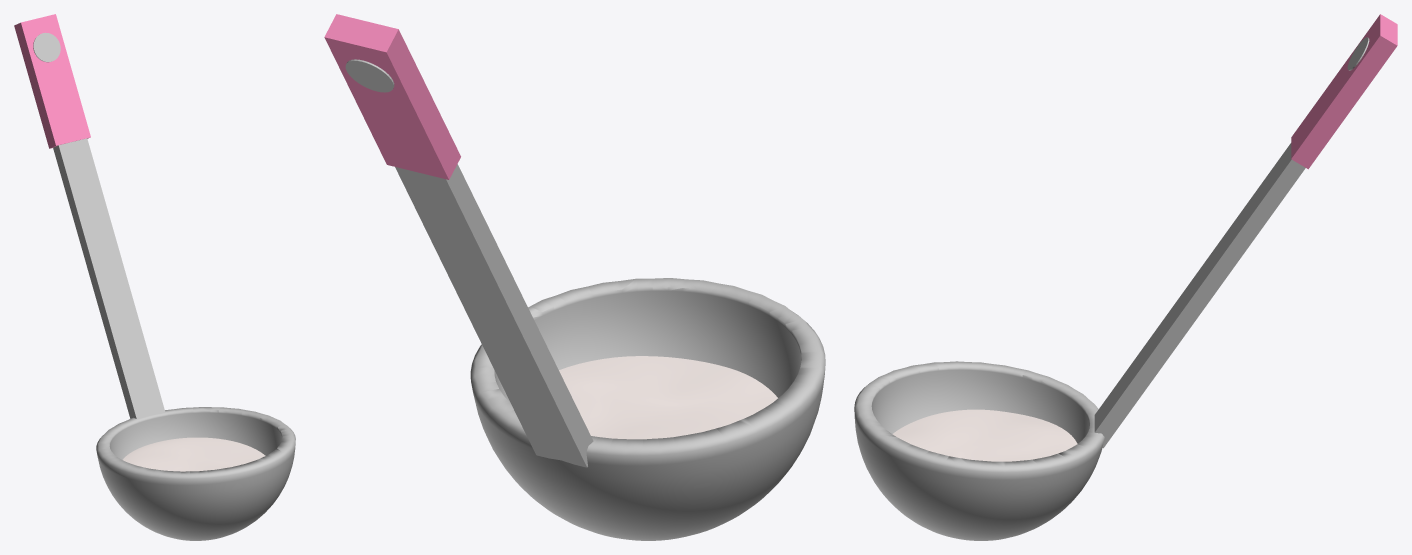
File: milkladle1.fbx
3 views of the same model, side by side, from view 1: azimuth 30°, elevation 25°; view 2: azimuth 150°, elevation 25°; view 3: azimuth 270°, elevation 25° (orthographic). The views are drawn at different scales.
Parts seen in each view (by area): view 1: Sphere.078, Cube.029, Cube.030, Sphere.079, Cylinder.030; view 2: Sphere.078, Cube.029, Sphere.079, Cube.030, Cylinder.030; view 3: Sphere.078, Cube.029, Sphere.079, Cube.030.
Part boxes in pixels (x1,y1,x2,y2): Sphere.078: (96,407,295,540); Cube.029: (53,138,165,418); Cube.030: (14,14,90,148); Sphere.079: (123,437,265,471); Cylinder.030: (33,32,60,62); Sphere.078: (470,278,825,540); Cube.029: (395,164,593,467); Sphere.079: (559,356,777,439); Cube.030: (324,14,460,179); Cylinder.030: (345,59,394,92); Sphere.078: (854,361,1104,540); Cube.029: (1094,143,1305,448); Sphere.079: (892,409,1077,461); Cube.030: (1291,14,1397,169).
Size of the model in its own units: 91.69 by 201 by 197.
